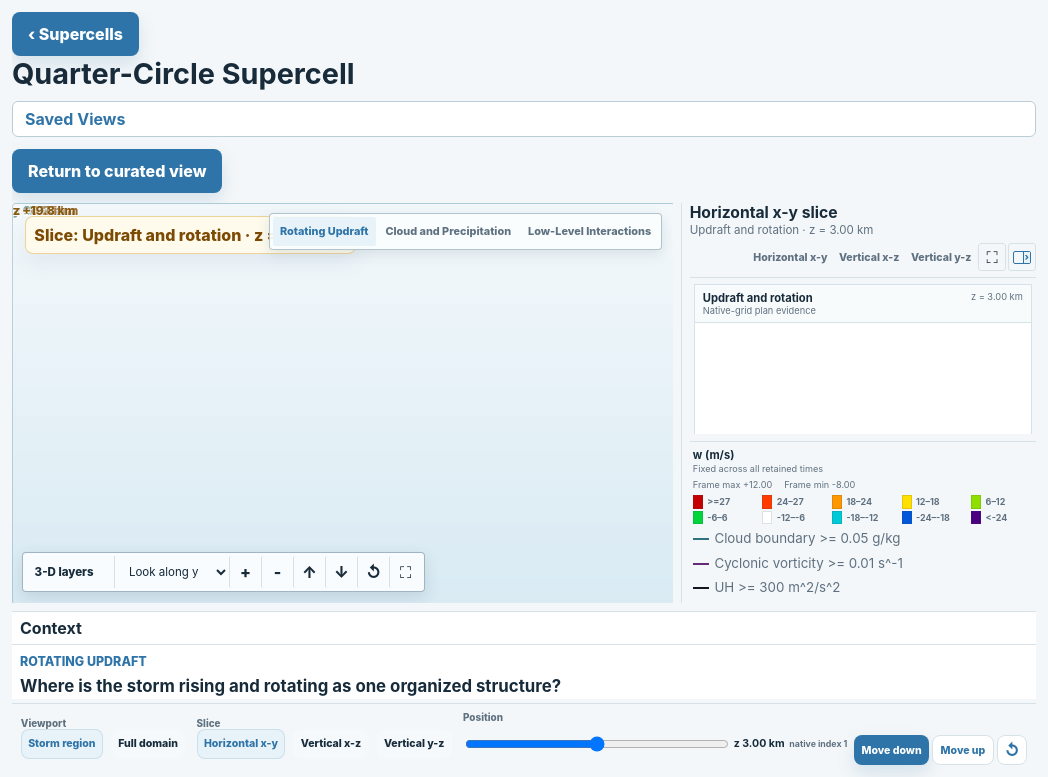
SupercellsExplore › uses the selected Low-Level altitude in 2-D and 3-D labels
Click the button "Low-Level Interactions".
click(590, 232)  # box [521,217,658,246]
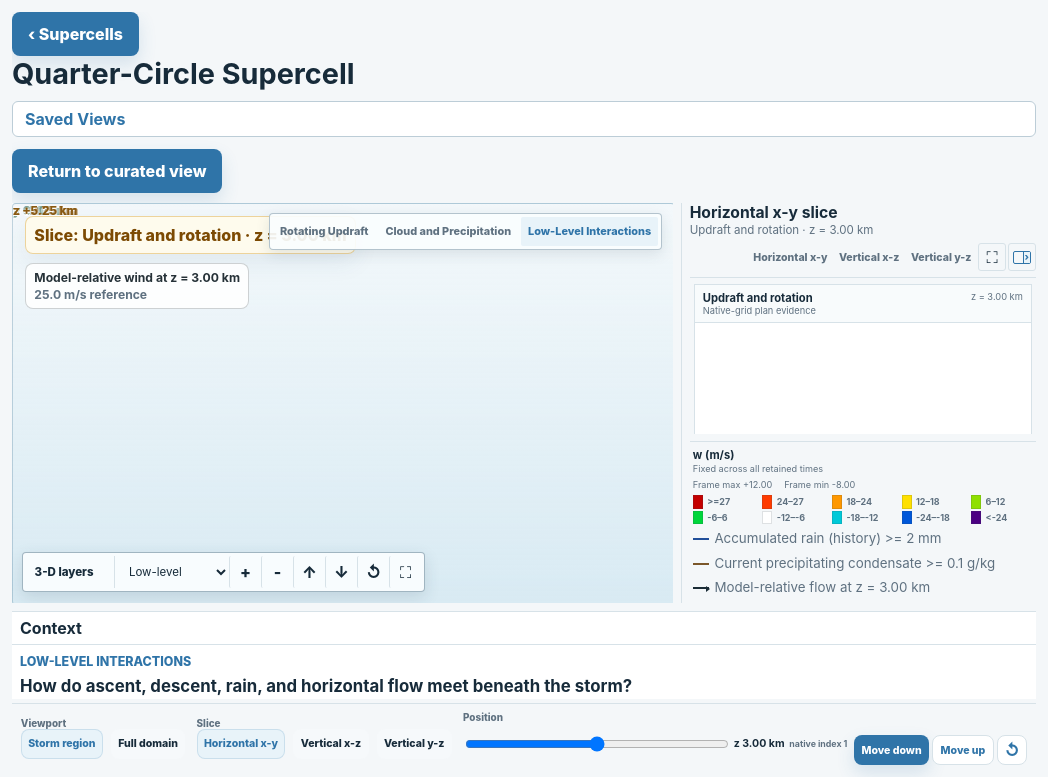
Set the slider named "Horizontal x-y z position" to "2" at (721, 744), box [465,724,729,763]
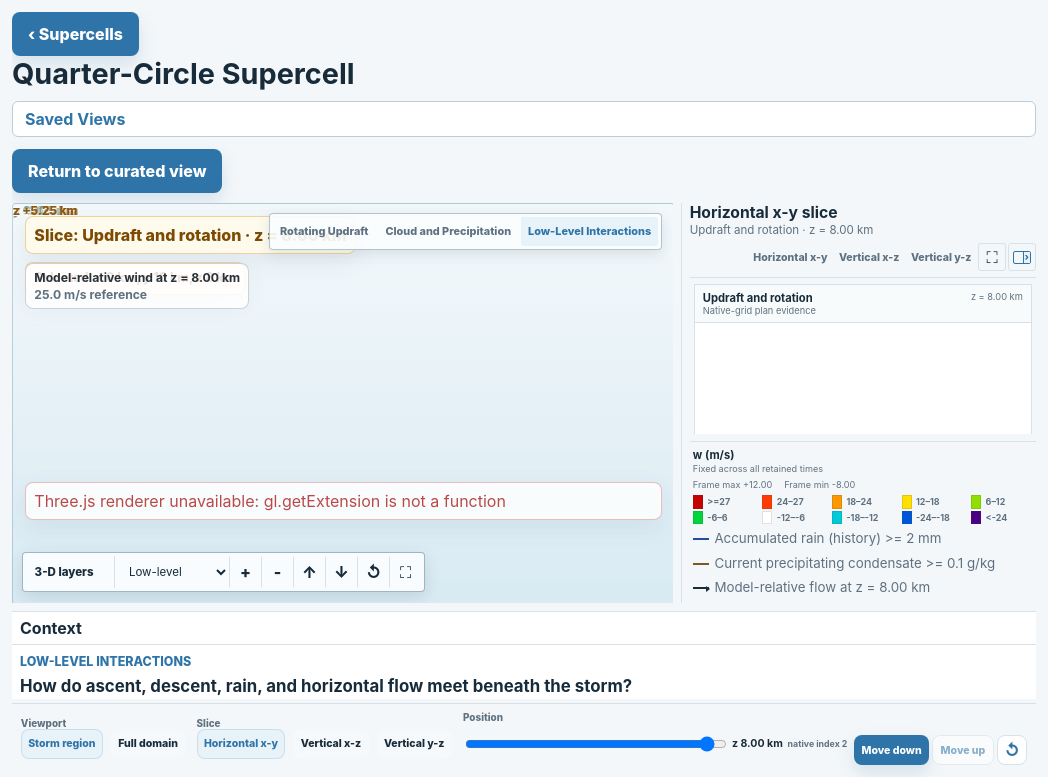
Now the text "Model-relative flow at z = 8.00 km" is shown, box [714,578,930,598]
